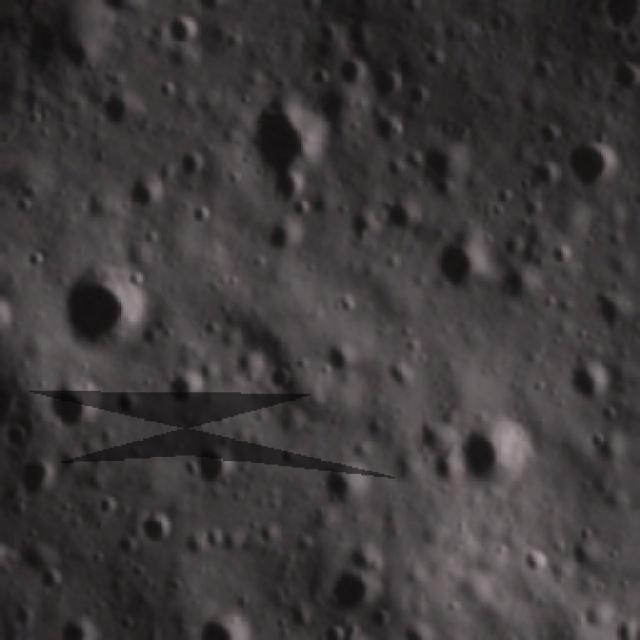crater: (57, 254, 169, 361), (248, 99, 334, 195), (446, 408, 534, 499), (413, 134, 478, 214), (34, 376, 106, 444), (312, 558, 390, 620), (430, 235, 492, 302), (190, 438, 244, 502), (314, 460, 374, 517), (561, 138, 616, 195), (154, 370, 214, 419), (565, 352, 620, 405), (12, 457, 68, 509), (178, 604, 257, 638), (153, 12, 210, 56), (94, 90, 144, 139), (250, 215, 305, 258), (343, 206, 386, 254), (253, 358, 304, 397), (118, 176, 164, 218), (601, 53, 640, 98), (369, 113, 409, 156), (31, 558, 68, 604), (330, 49, 368, 92), (173, 147, 213, 185), (370, 70, 407, 107), (49, 615, 113, 636), (326, 338, 359, 378), (0, 292, 17, 351), (604, 612, 634, 640), (0, 524, 15, 580), (634, 158, 640, 207), (4, 70, 7, 141)
